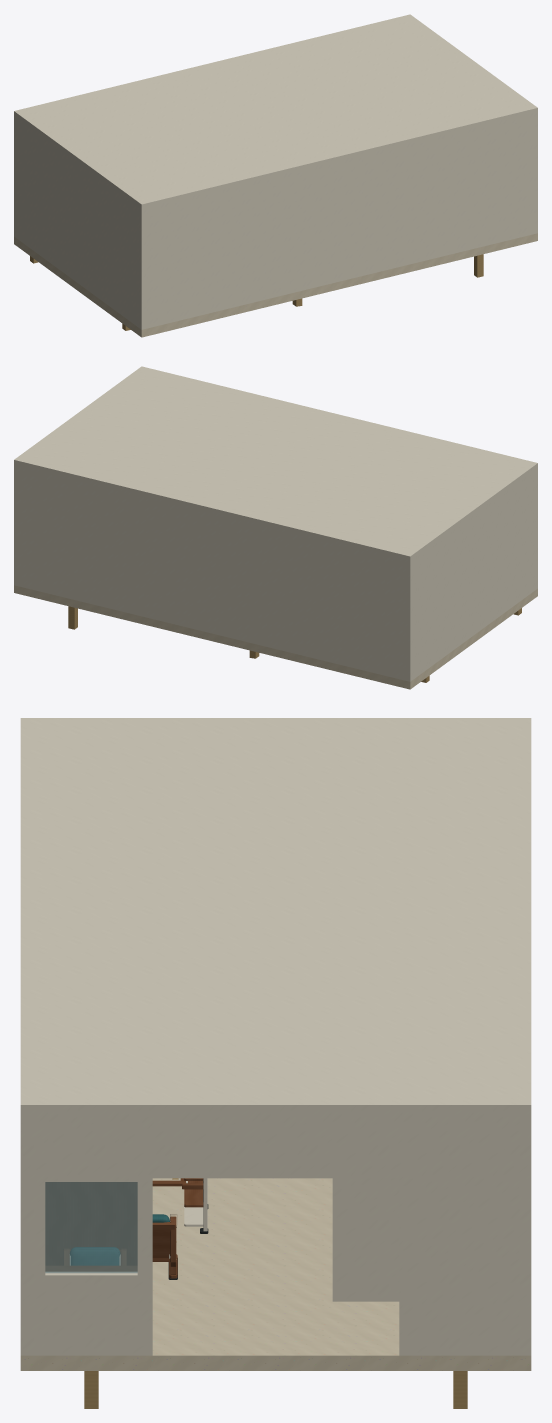
Rendered from StarAtlasSpecialty_521.glb.
The picture shows the model from 3 angles, top to bottom: view 1: azimuth 30°, elevation 25°; view 2: azimuth 150°, elevation 25°; view 3: azimuth 270°, elevation 25°; orthographic projection. The views are drawn at different scales.
Visible parts, largest first — view 1: SA521_Ceiling, SA521_NorthSide, SA521_OpaqueRearBoundary, SA521_RoomFloor; view 2: SA521_Ceiling, SA521_SouthSide, SA521_OpaqueRearBoundary, SA521_RoomFloor; view 3: SA521_Ceiling, SA521_RoomFloor, SA521_EntryShoulderSouth, SA521_EntryHeader, SA521_StreetWindowLower, SA521_ScreenedStreetGlass, SA521_WashEntrySide, SA521_StreetWindowUpper, SA521_EntryPrivacyDogleg, SA521_NorthSide, SA521_SouthSide, SA521_StreetWindowOuterPier (+2 smaller).
Boxes of the visible parts, bbox=[...] form: SA521_Ceiling: bbox=[14, 14, 537, 209]; SA521_NorthSide: bbox=[139, 113, 537, 329]; SA521_OpaqueRearBoundary: bbox=[16, 118, 139, 327]; SA521_RoomFloor: bbox=[14, 233, 537, 337]; SA521_Ceiling: bbox=[14, 366, 537, 561]; SA521_SouthSide: bbox=[14, 465, 412, 681]; SA521_OpaqueRearBoundary: bbox=[412, 470, 535, 679]; SA521_RoomFloor: bbox=[14, 585, 537, 689]; SA521_Ceiling: bbox=[20, 718, 531, 1115]; SA521_RoomFloor: bbox=[20, 1178, 531, 1370]; SA521_EntryShoulderSouth: bbox=[399, 1115, 522, 1355]; SA521_EntryHeader: bbox=[148, 1115, 403, 1178]; SA521_StreetWindowLower: bbox=[29, 1272, 152, 1355]; SA521_ScreenedStreetGlass: bbox=[45, 1182, 137, 1272]; SA521_WashEntrySide: bbox=[332, 1178, 399, 1301]; SA521_StreetWindowUpper: bbox=[29, 1115, 152, 1181]; SA521_EntryPrivacyDogleg: bbox=[45, 1182, 137, 1265]; SA521_NorthSide: bbox=[20, 1115, 28, 1355]; SA521_SouthSide: bbox=[523, 1115, 531, 1355]; SA521_StreetWindowOuterPier: bbox=[29, 1182, 45, 1275].
Size of the model in its own units: 12.9 by 5.31 by 7.2.
Materials: 73 (49 with a texture image).
